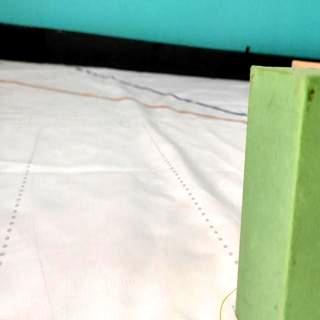greenbox: (233, 65, 320, 320)
